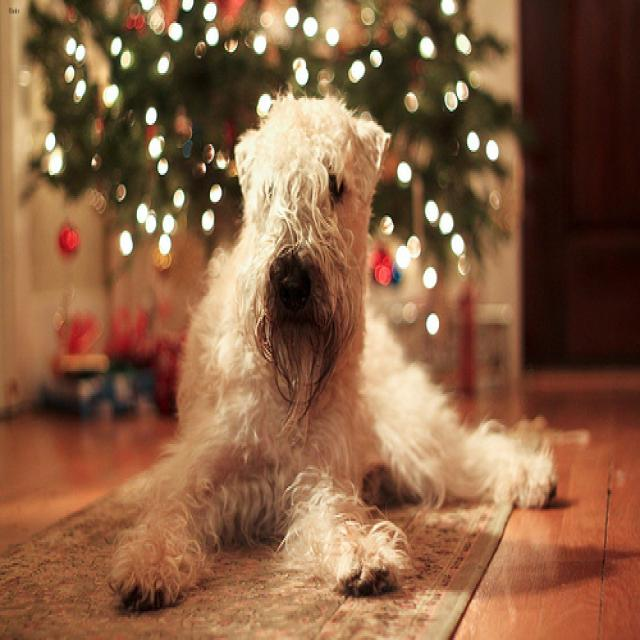dog-wheaten_terrier: (99, 85, 566, 615)
